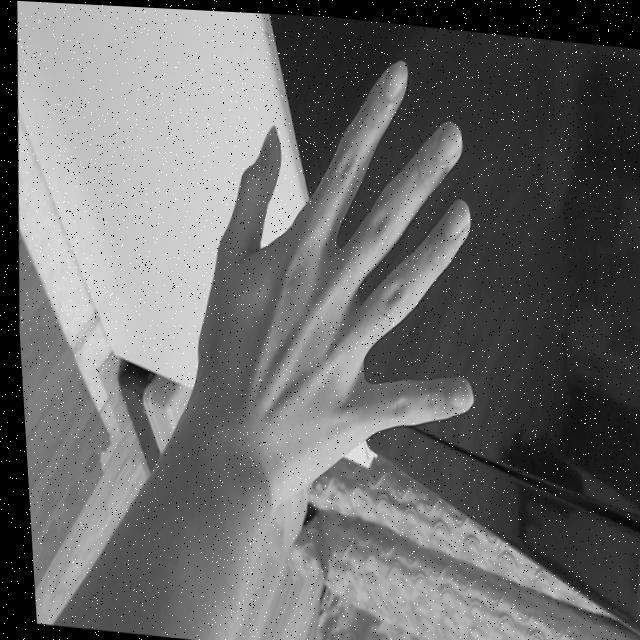no-gloves: (185, 36, 493, 516)
